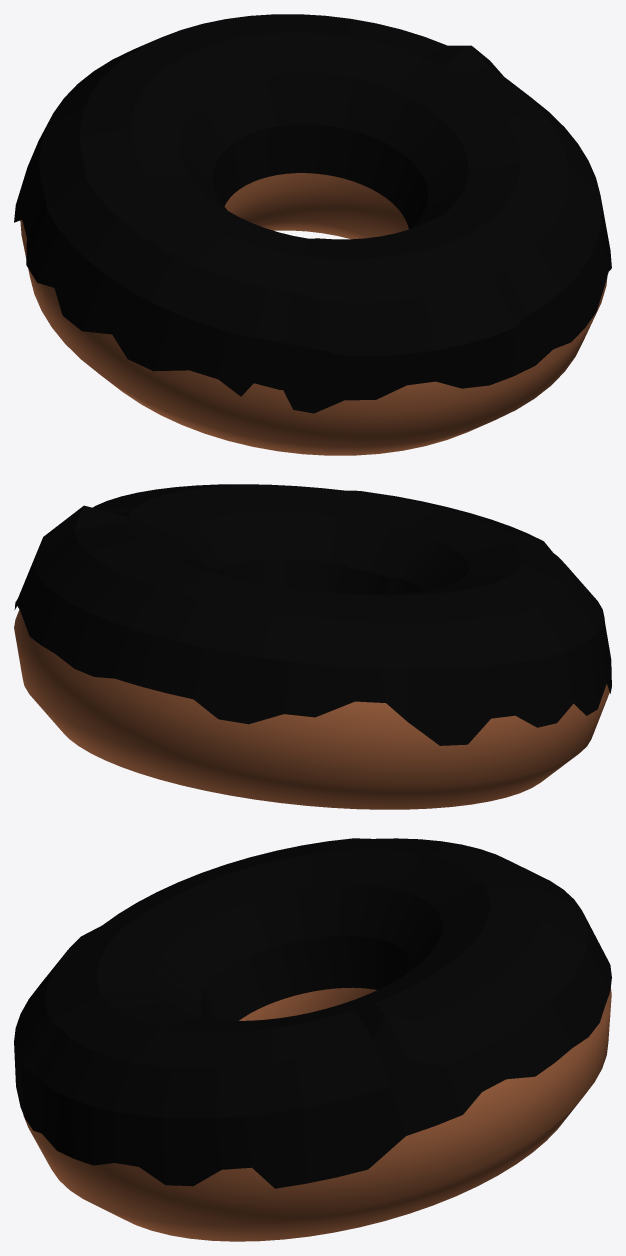
The model's file is dounut.glb.
The picture shows the model from 3 angles, top to bottom: view 1: azimuth 30°, elevation 25°; view 2: azimuth 150°, elevation 25°; view 3: azimuth 270°, elevation 25°; orthographic projection.
Parts seen in each view (by area): view 1: トーラス.003, トーラス.002; view 2: トーラス.003, トーラス.002; view 3: トーラス.003, トーラス.002.
Boxes of the visible parts, x1,y1,x2,y2 form: トーラス.003: [14, 14, 611, 413]; トーラス.002: [20, 173, 607, 455]; トーラス.003: [14, 484, 611, 745]; トーラス.002: [14, 610, 609, 809]; トーラス.003: [14, 838, 611, 1188]; トーラス.002: [23, 987, 611, 1241].
Size of the model in its own units: 1.97 by 0.9591 by 1.93.
